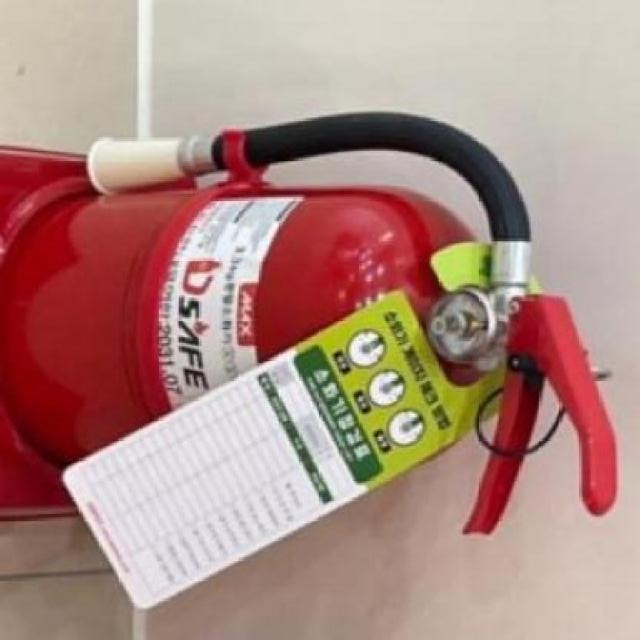fire extinguisher: (0, 110, 619, 535)
